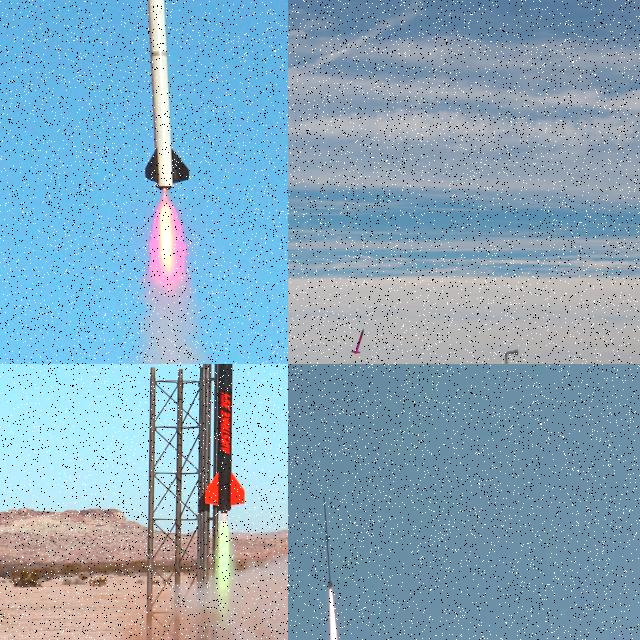Rocket: (143, 0, 192, 191), (202, 364, 247, 513), (323, 495, 335, 591), (351, 328, 364, 354)
